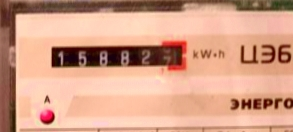1: (56, 48, 65, 64)
2: (140, 46, 150, 63)
5: (77, 47, 87, 63)
7: (162, 52, 171, 63)
8: (119, 47, 129, 64), (98, 48, 108, 64)
screen: (44, 34, 192, 75)
